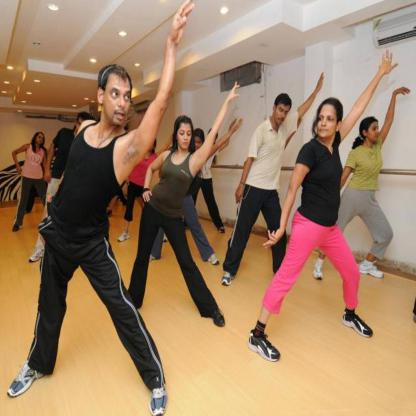face: (105, 74, 132, 125), (318, 105, 338, 138), (178, 123, 192, 149), (276, 105, 291, 125), (368, 122, 380, 142), (77, 118, 88, 135), (194, 137, 204, 152), (38, 134, 45, 145)
